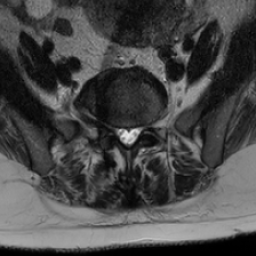CCS_normal: (124, 116, 133, 154)
LFS_stenosis: (141, 115, 151, 139)
LLS_normal: (133, 116, 141, 149)
RFS_stenosis: (106, 114, 115, 139)
RLS_normal: (115, 116, 124, 149)
